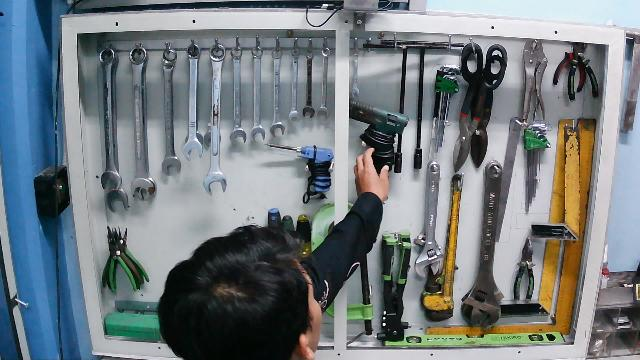gun_lem: (348, 97, 414, 184)
